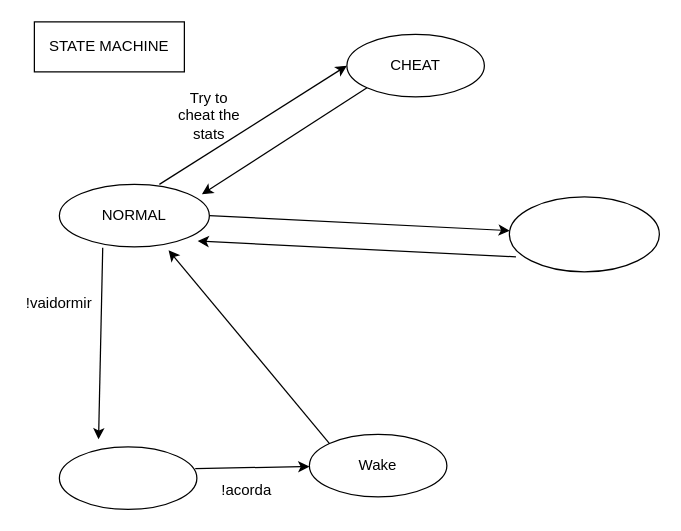
Some shapes in this 681 by 531 pixel diagram are drawn without their labels. The centre of each missing label's shape, as x and y in pixels:
ROAST: point (583, 234)
SLEEP: point (127, 477)
